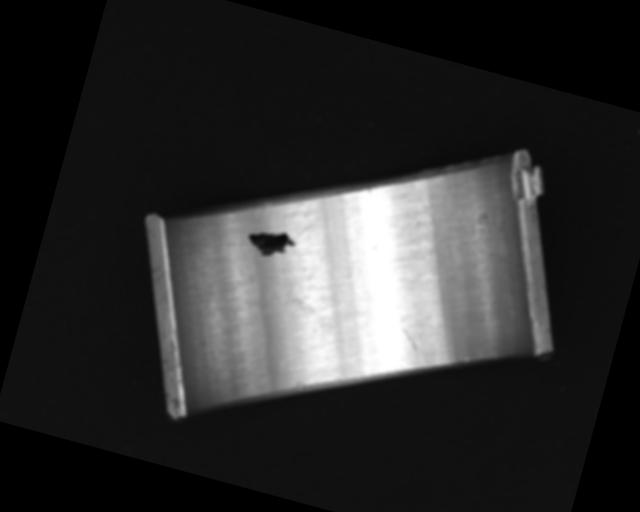blot: (255, 266, 325, 316), (243, 221, 299, 264)
bruise: (293, 380, 303, 391), (365, 186, 375, 196)
nick: (393, 327, 433, 370)
